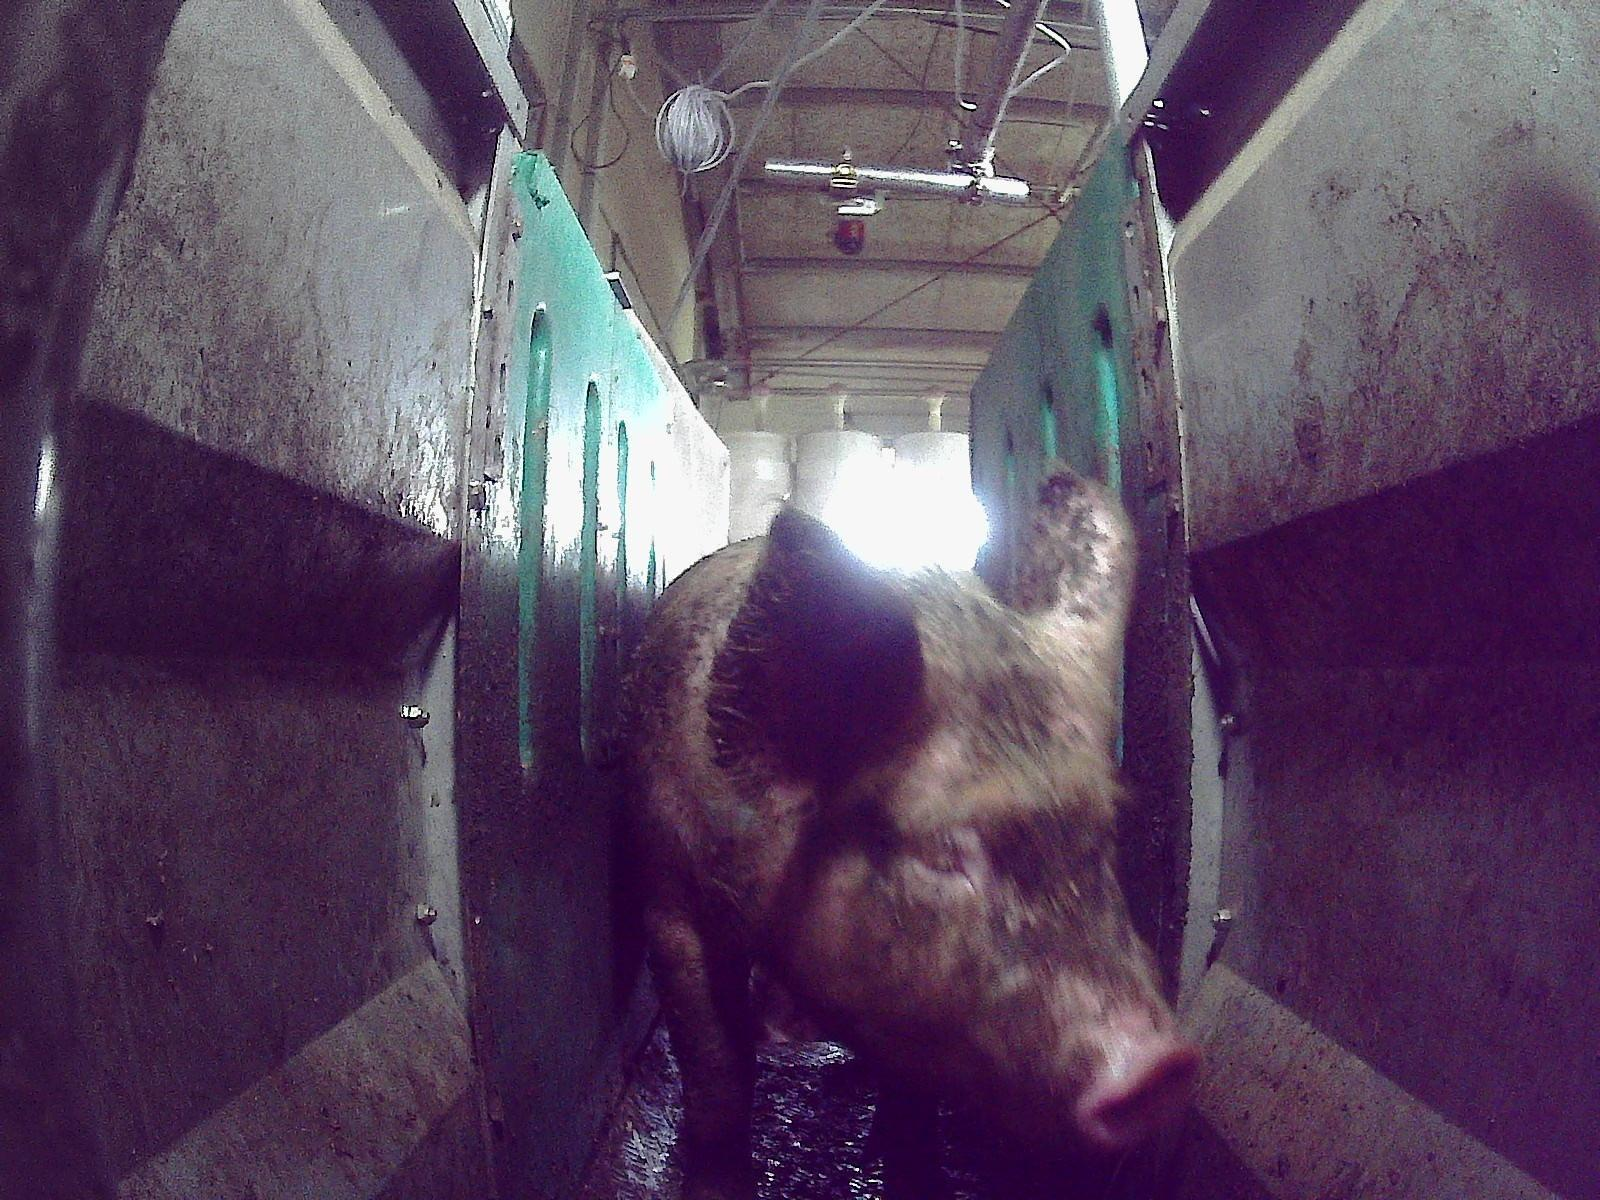Face: (776, 604, 1200, 1146)
